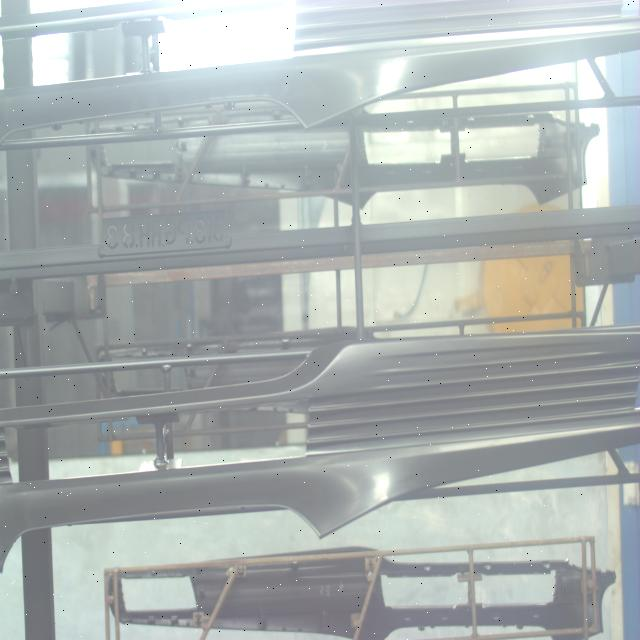Non_primered: (0, 329, 640, 534), (0, 2, 638, 140)
